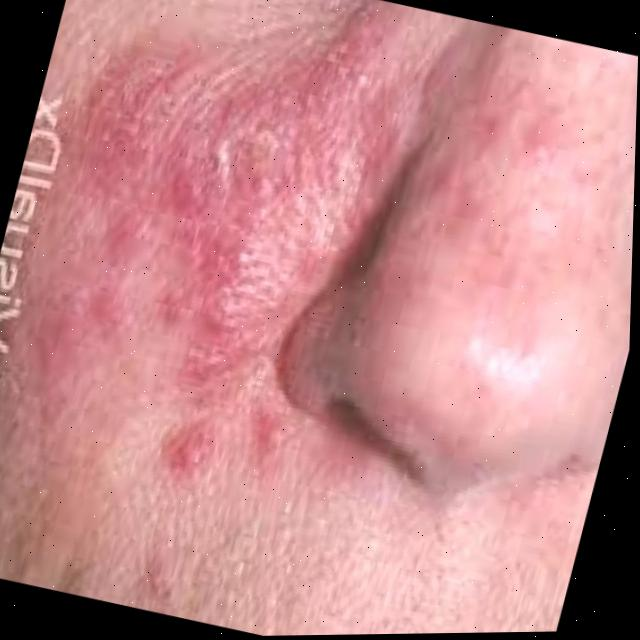Rosacea: (22, 0, 418, 504)
